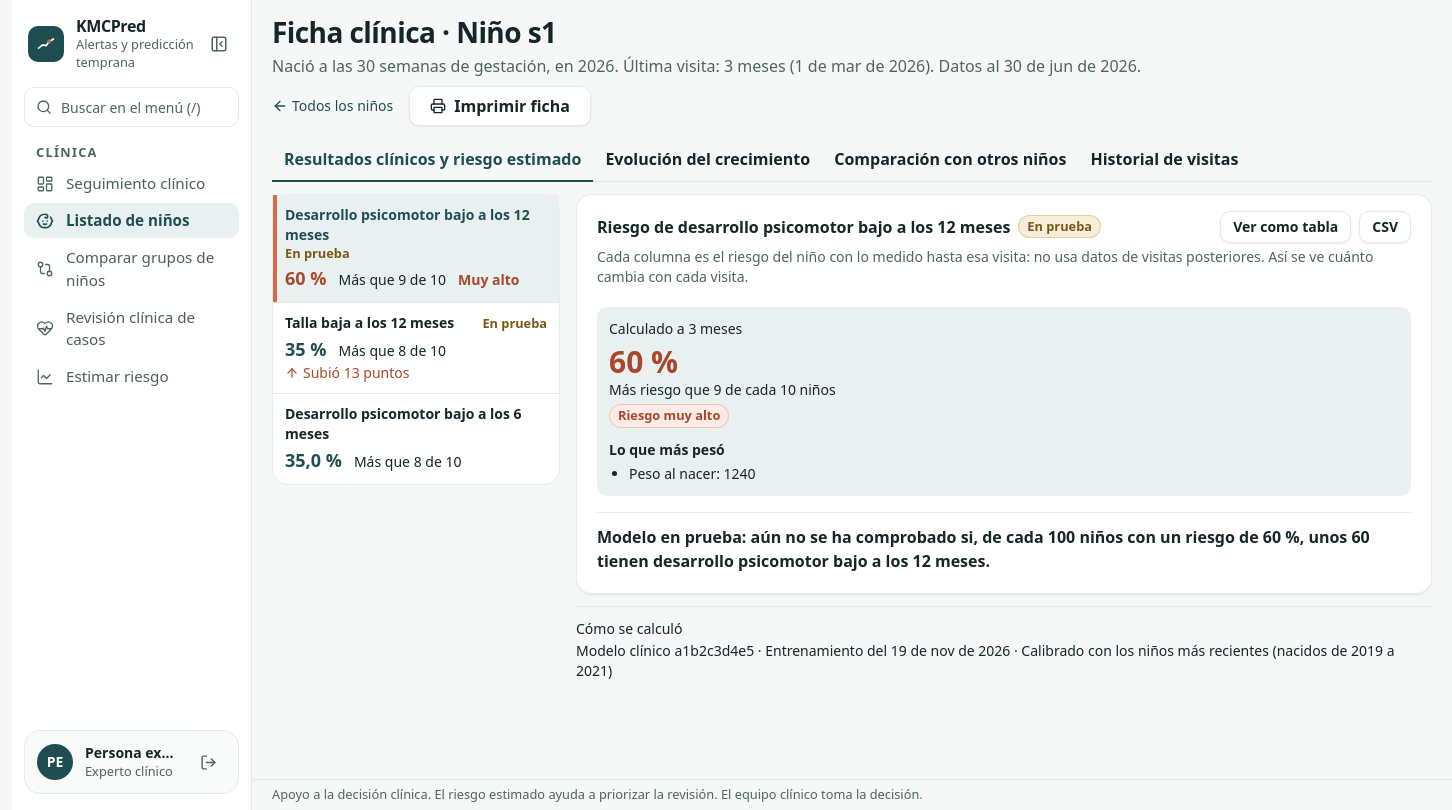
Test: ficha del niño en pestañas › elegir una pestaña cambia el panel y la dirección; la dirección también la elige
Click the tab "Evolución del crecimiento".
click(708, 160)  # box [593, 138, 822, 182]
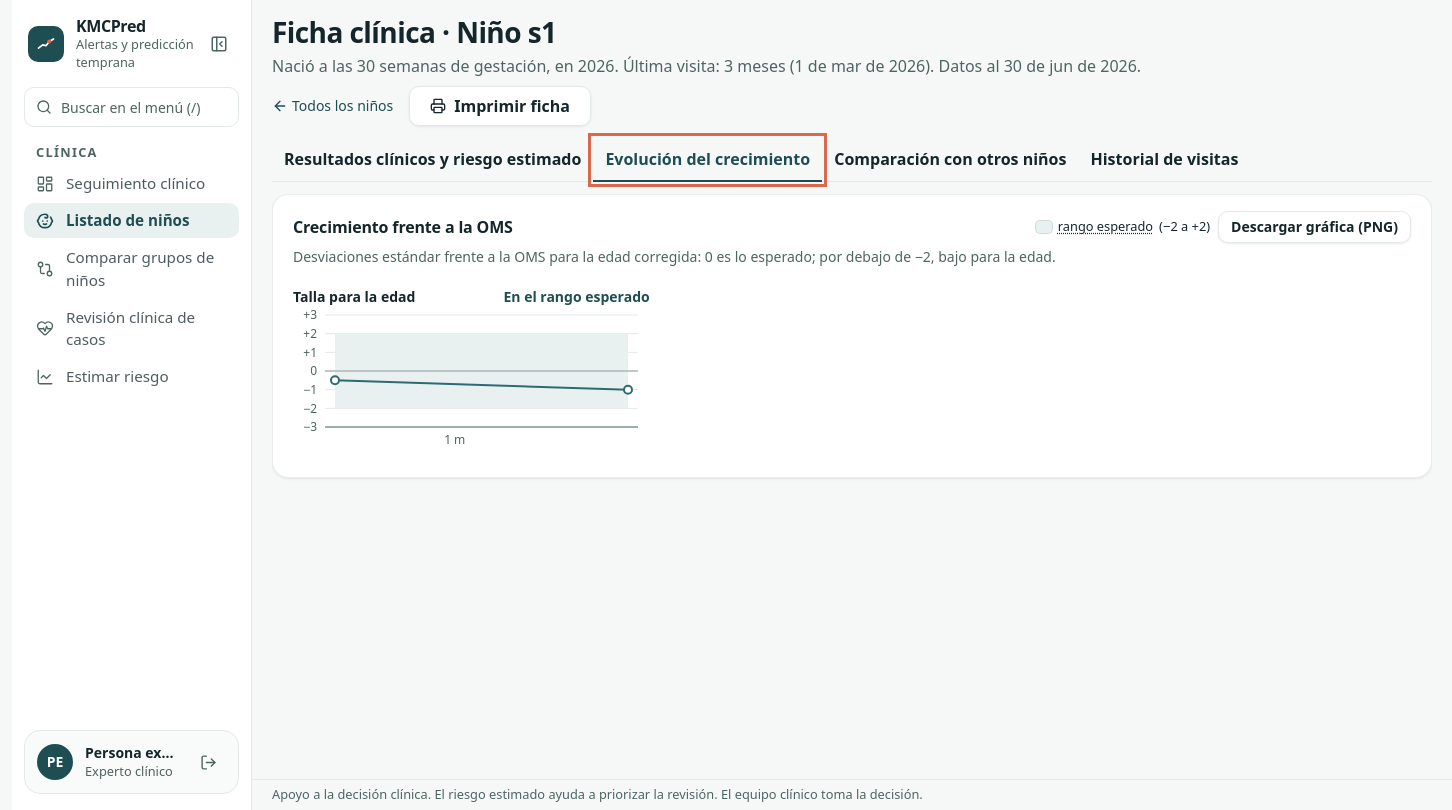
Check: the panel shows "Crecimiento frente a la OMS", box [293, 216, 513, 238]
# «rango esperado» se explica en la leyenda (con qué es «DE»), no solo al pasar el cursor
Click the button "rango esperado".
click(1105, 227)  # box [1058, 218, 1153, 235]
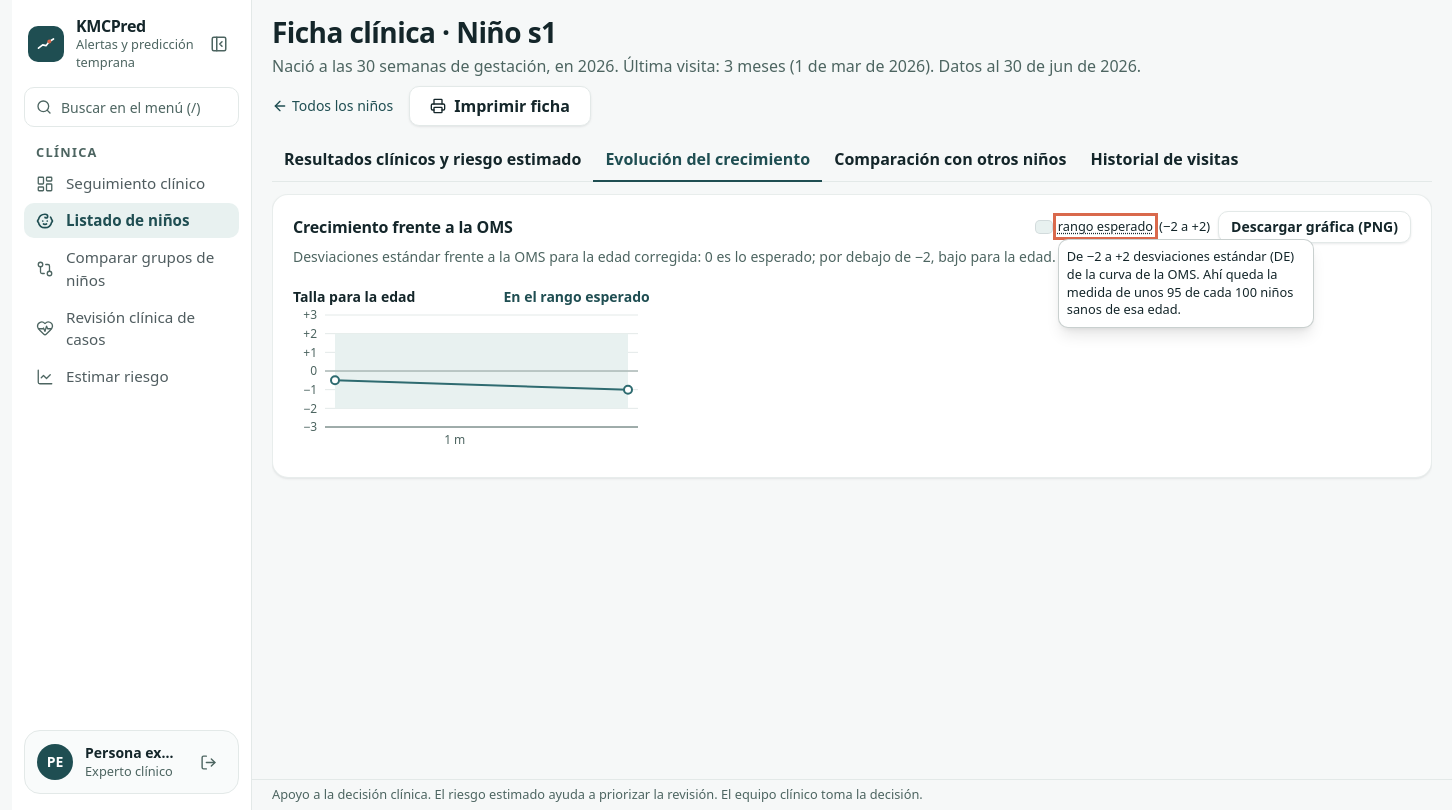
Click the tab "Resultados clínicos y riesgo estimado".
click(433, 160)  # box [272, 138, 593, 182]
(page scrolled)
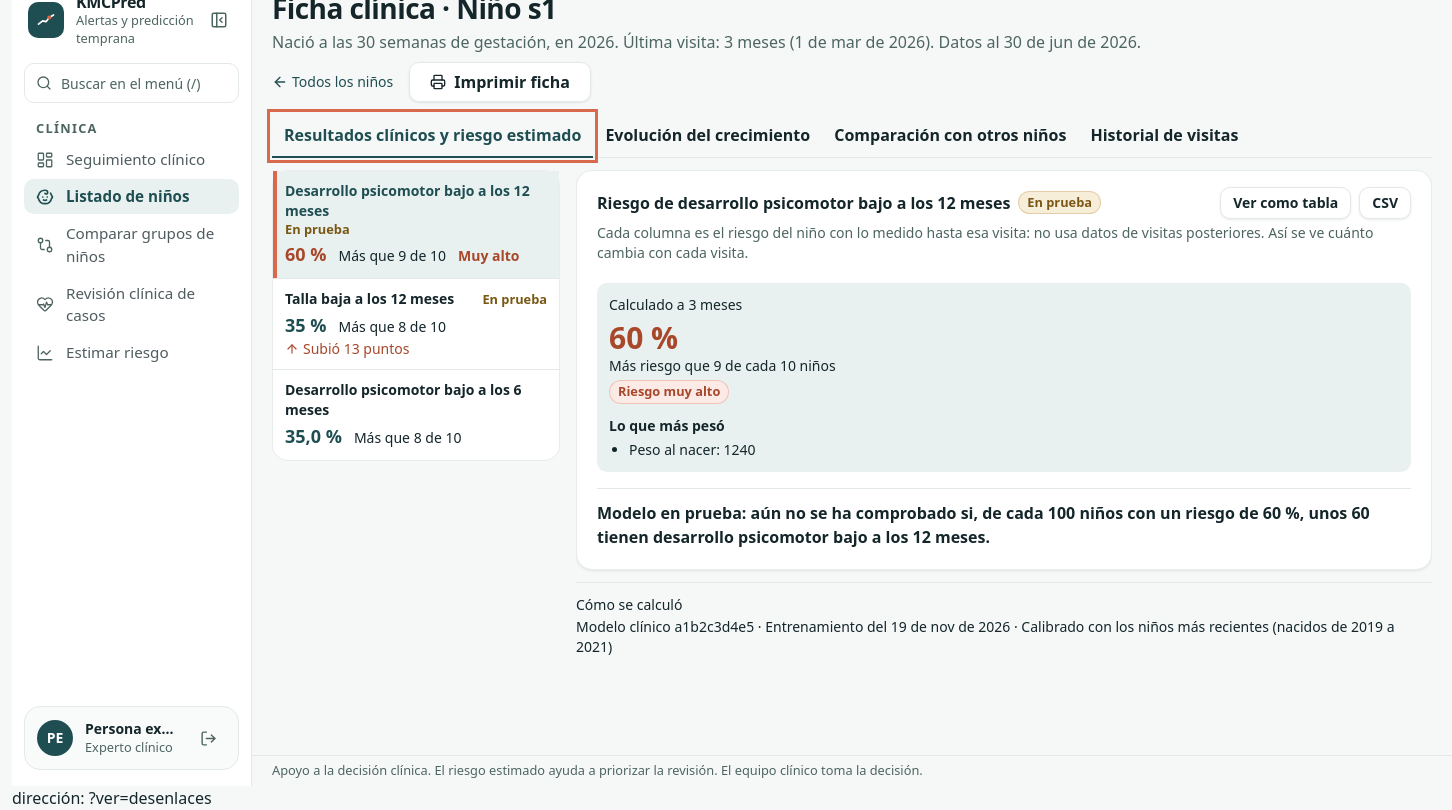
Check: the panel shows "Riesgo de desarrollo psicomotor bajo a los 12 meses", box [272, 170, 1432, 739]
Check: the text "dirección: ?ver=desenlaces" is shown, box [12, 787, 212, 809]
